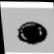correct: (13, 18, 49, 46)
